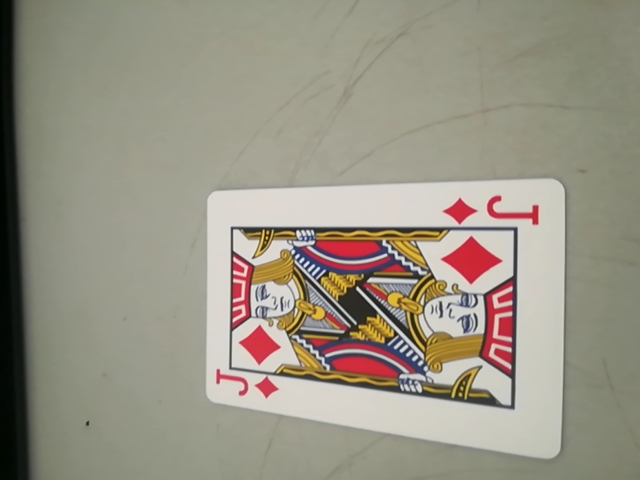fk j: (445, 192, 545, 228), (213, 366, 286, 406)
